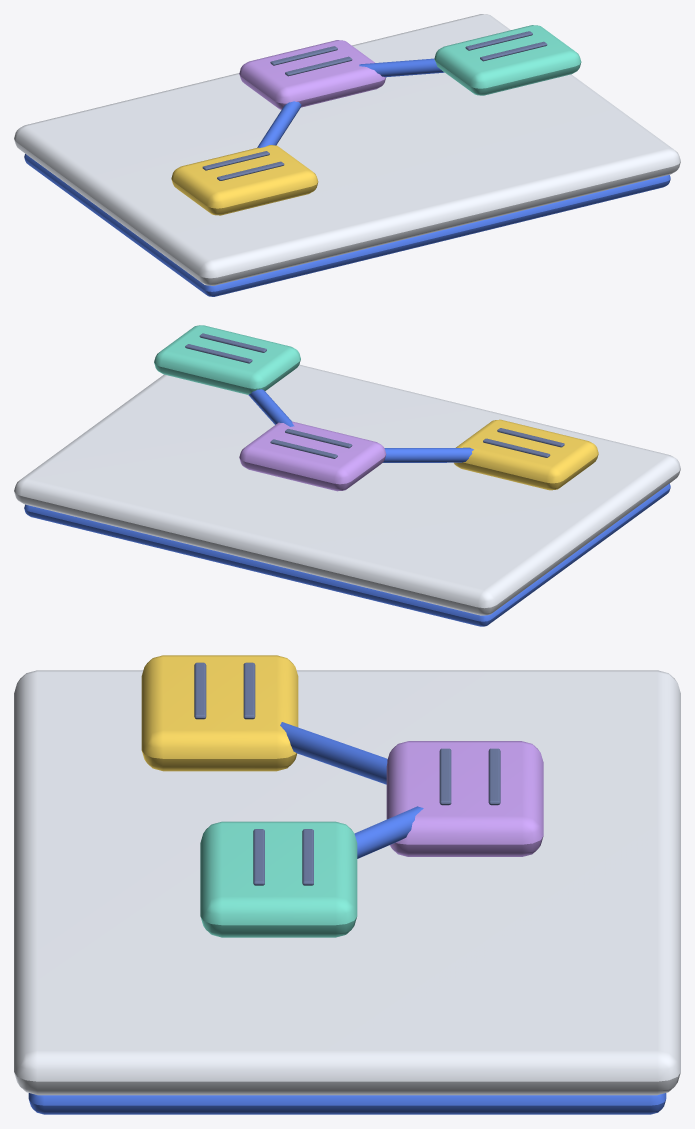
The model's file is roadmap.glb.
3 views of the same model, one above another, from view 1: azimuth 30°, elevation 25°; view 2: azimuth 150°, elevation 25°; view 3: azimuth 270°, elevation 25° (orthographic). The views are drawn at different scales.
Parts seen in each view (by area): view 1: Floating workspace, Blue lower edge, Milestone 3, Milestone 1, Milestone 2, Milestone connector.001, Milestone connector; view 2: Floating workspace, Blue lower edge, Milestone 2, Milestone 3, Milestone 1, Milestone connector, Milestone connector.001; view 3: Floating workspace, Milestone 3, Milestone 1, Milestone 2, Blue lower edge, Milestone connector, Milestone connector.001, Milestone label 0-1, Milestone label 0-0, Milestone label 1-0, Milestone label 1-1, Milestone label 2-0 (+1 smaller).
Part boxes in pixels (x1=…): Floating workspace: x1=14, y1=14, x2=680, y2=285; Blue lower edge: x1=24, y1=154, x2=670, y2=296; Milestone 3: x1=434, y1=25, x2=581, y2=95; Milestone 1: x1=171, y1=145, x2=318, y2=215; Milestone 2: x1=239, y1=40, x2=385, y2=109; Milestone connector.001: x1=359, y1=58, x2=444, y2=77; Milestone connector: x1=257, y1=101, x2=301, y2=147; Floating workspace: x1=14, y1=364, x2=680, y2=615; Blue lower edge: x1=24, y1=483, x2=670, y2=626; Milestone 2: x1=239, y1=421, x2=386, y2=491; Milestone 3: x1=154, y1=325, x2=300, y2=394; Milestone 1: x1=454, y1=419, x2=598, y2=490; Milestone connector: x1=383, y1=447, x2=473, y2=462; Milestone connector.001: x1=248, y1=389, x2=294, y2=426; Floating workspace: x1=14, y1=670, x2=680, y2=1095; Milestone 3: x1=200, y1=821, x2=357, y2=937; Milestone 1: x1=141, y1=655, x2=298, y2=771; Milestone 2: x1=386, y1=741, x2=543, y2=856; Blue lower edge: x1=28, y1=1093, x2=666, y2=1114; Milestone connector: x1=280, y1=722, x2=387, y2=784; Milestone connector.001: x1=354, y1=806, x2=423, y2=858; Milestone label 0-1: x1=194, y1=662, x2=206, y2=719; Milestone label 0-0: x1=243, y1=662, x2=255, y2=719; Milestone label 1-0: x1=488, y1=748, x2=500, y2=805; Milestone label 1-1: x1=439, y1=748, x2=451, y2=805; Milestone label 2-0: x1=302, y1=829, x2=313, y2=885.
Bounding box in the file's own units: 4.8 × 1.06 × 3.4.
